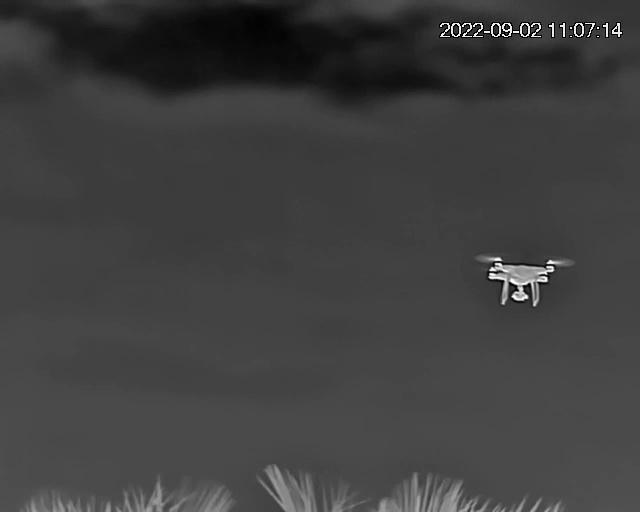DJI-Phantom: (475, 251, 577, 312)
